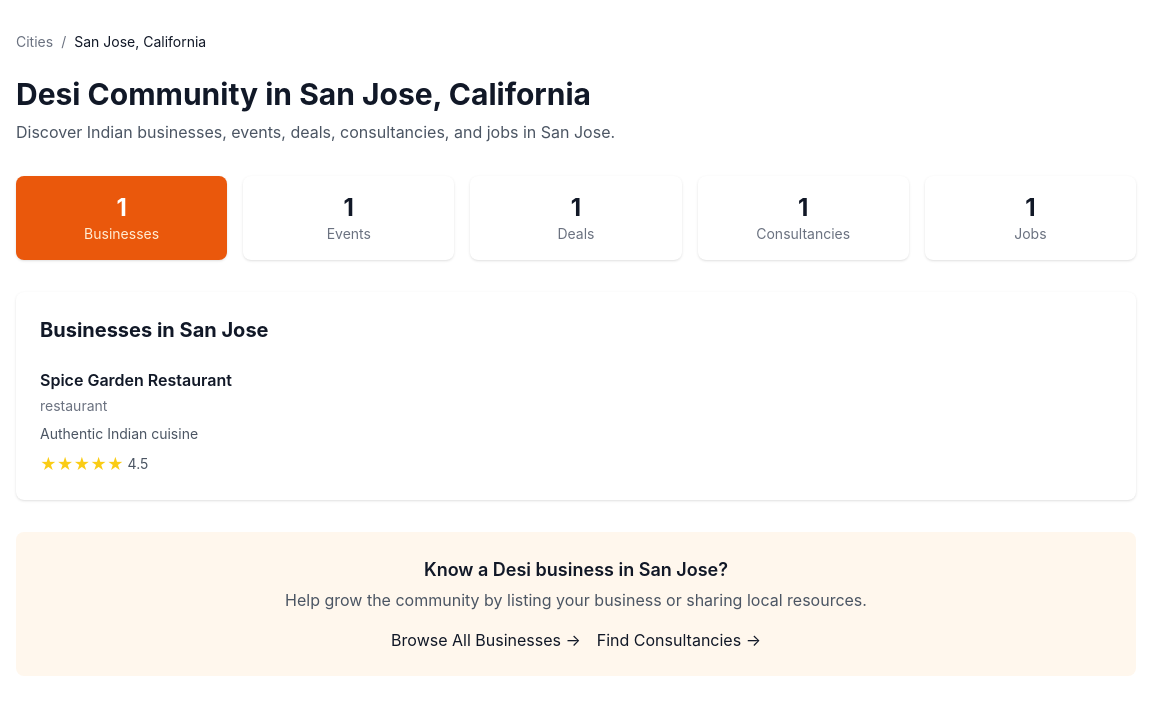
Test: City Detail Page › Deals Tab › should display deals when Deals tab is clicked
Expected: the heading "Spice Garden Restaurant" is shown, [40,370,232,390]
Click the button "1 Deals".
click(576, 218)  # box [470,176,682,260]
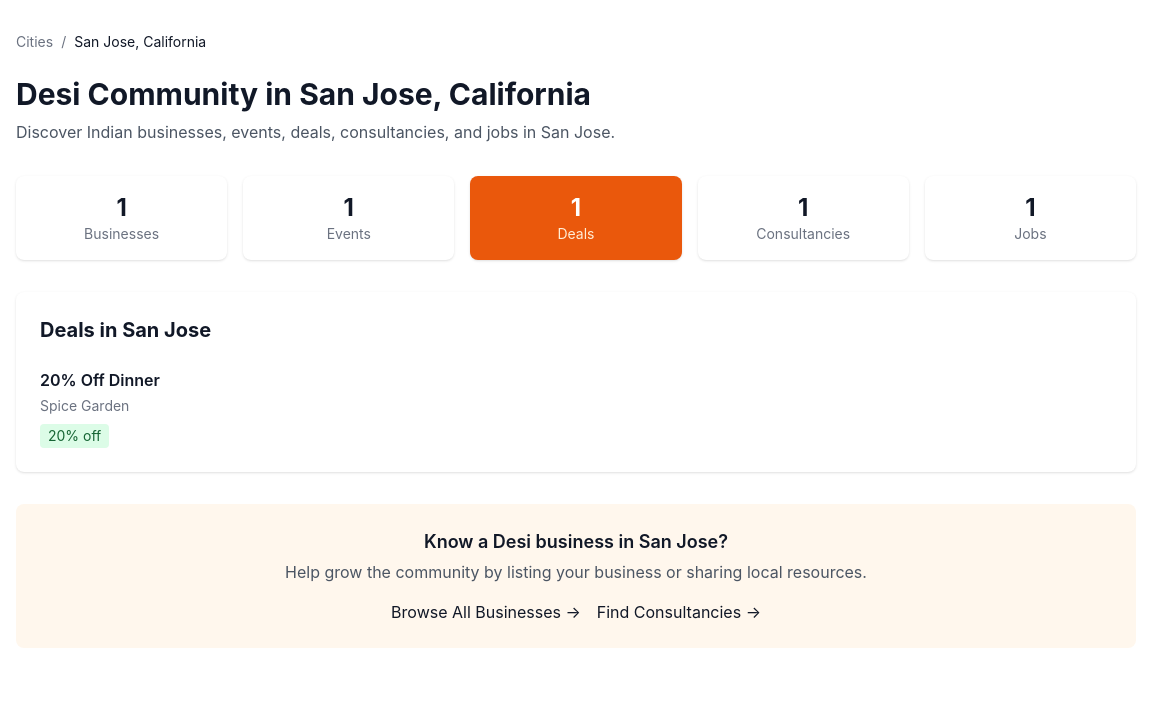
Now the heading "20% Off Dinner" is shown, box [40,370,160,390]
